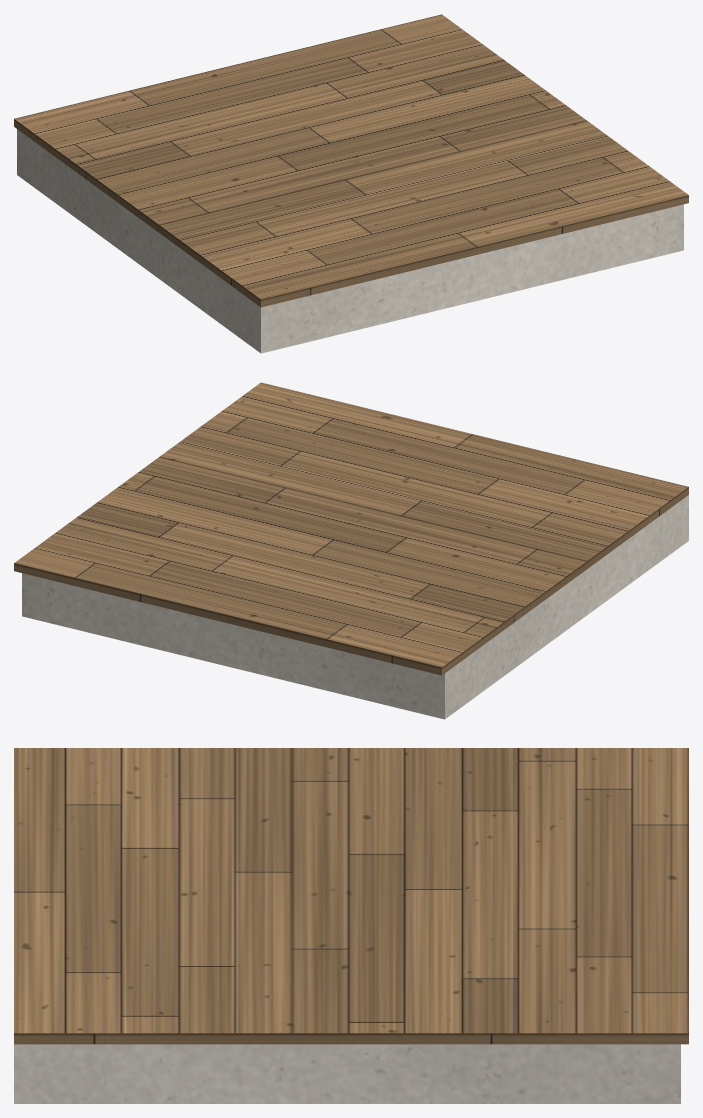
Rendered from floor_wood_c_e30_0_0_30.glb.
3 views of the same model, one above another, from view 1: azimuth 30°, elevation 25°; view 2: azimuth 150°, elevation 25°; view 3: azimuth 270°, elevation 25° (orthographic). The views are drawn at different scales.
Visible parts, largest first — view 1: floor_wood_c_e30_0_0_30_attic, floor_wood_c_e30_0_0_30_plaster; view 2: floor_wood_c_e30_0_0_30_attic, floor_wood_c_e30_0_0_30_plaster; view 3: floor_wood_c_e30_0_0_30_attic, floor_wood_c_e30_0_0_30_plaster.
Part boxes in pixels (<box>): floor_wood_c_e30_0_0_30_attic: <box>14,14,688,307</box>; floor_wood_c_e30_0_0_30_plaster: <box>17,129,683,353</box>; floor_wood_c_e30_0_0_30_attic: <box>14,382,688,675</box>; floor_wood_c_e30_0_0_30_plaster: <box>22,495,688,719</box>; floor_wood_c_e30_0_0_30_attic: <box>14,748,688,1044</box>; floor_wood_c_e30_0_0_30_plaster: <box>14,1044,680,1103</box>.
Bounding box in the file's own units: 1.7 × 0.205 × 1.7.
2 materials, 2 textured.
